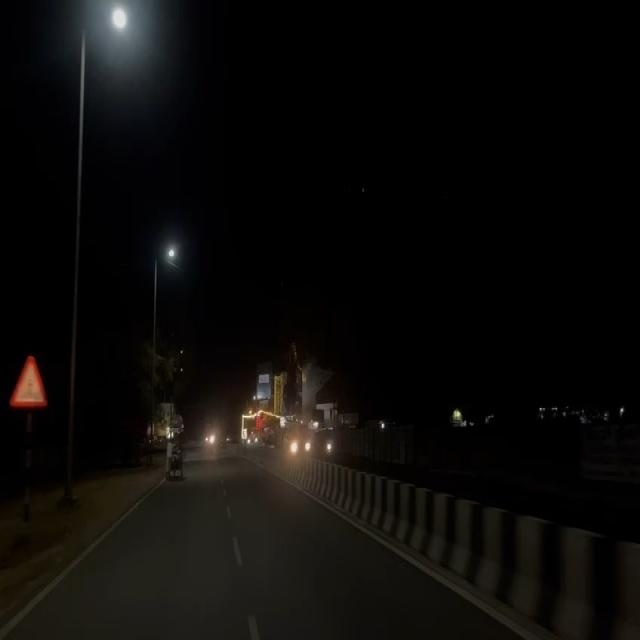bien_nguy_hiem: (6, 347, 52, 410)
